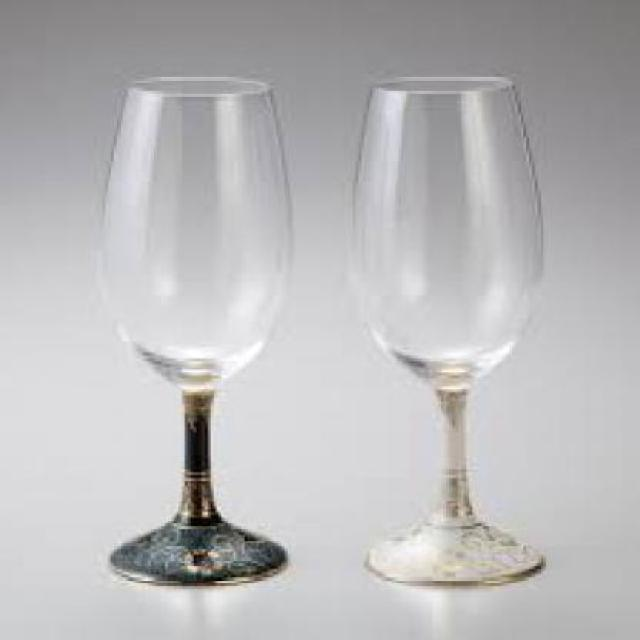kaca: (355, 74, 543, 583), (108, 74, 284, 597)
